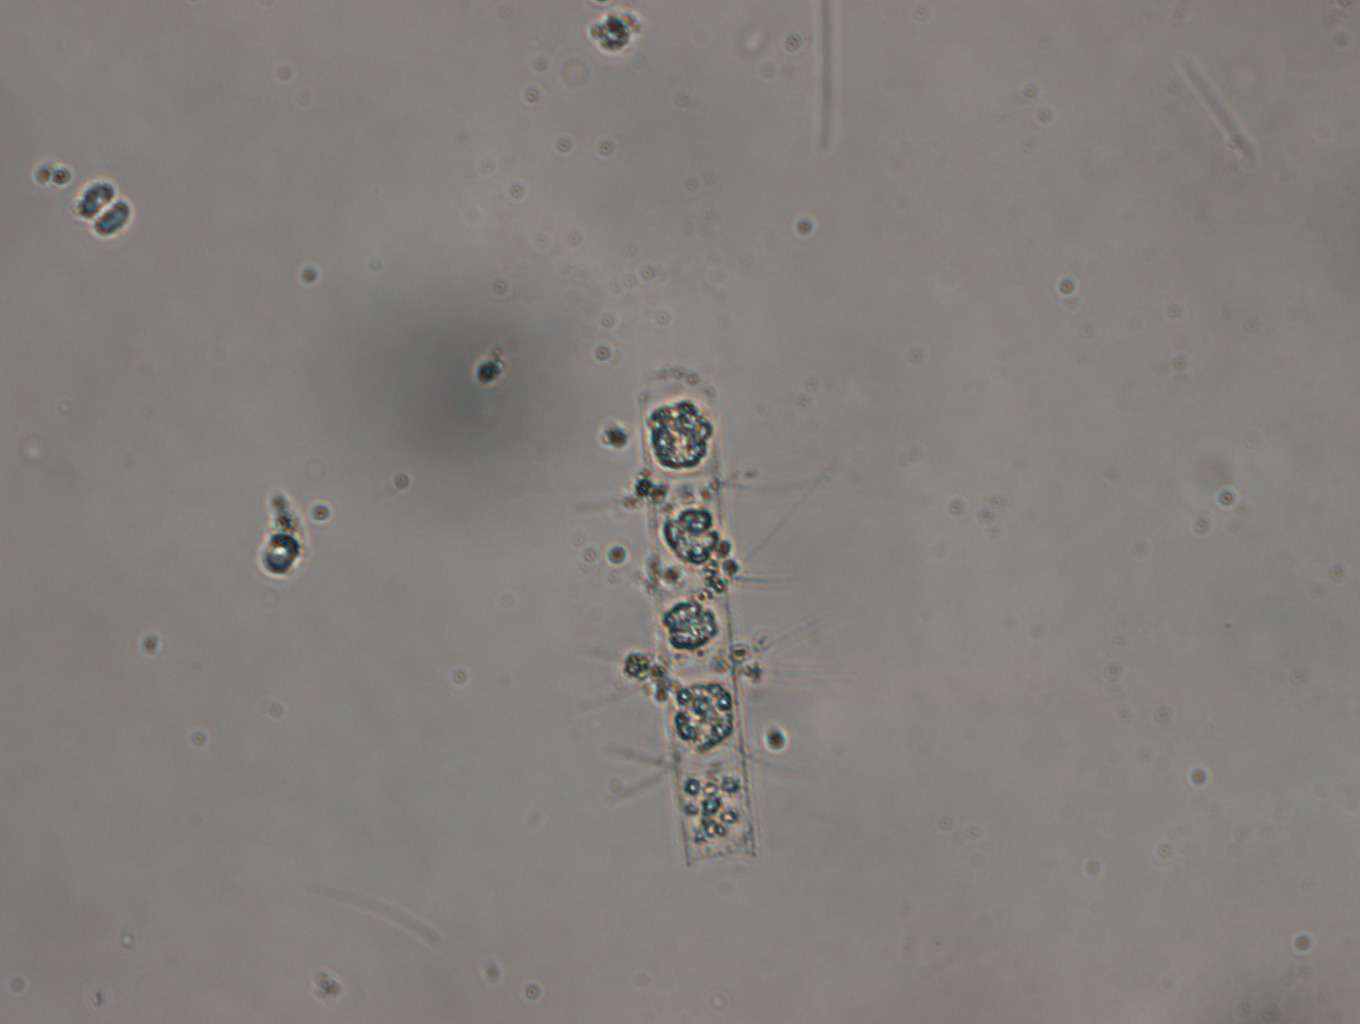chaetoceros: (566, 374, 840, 866)
